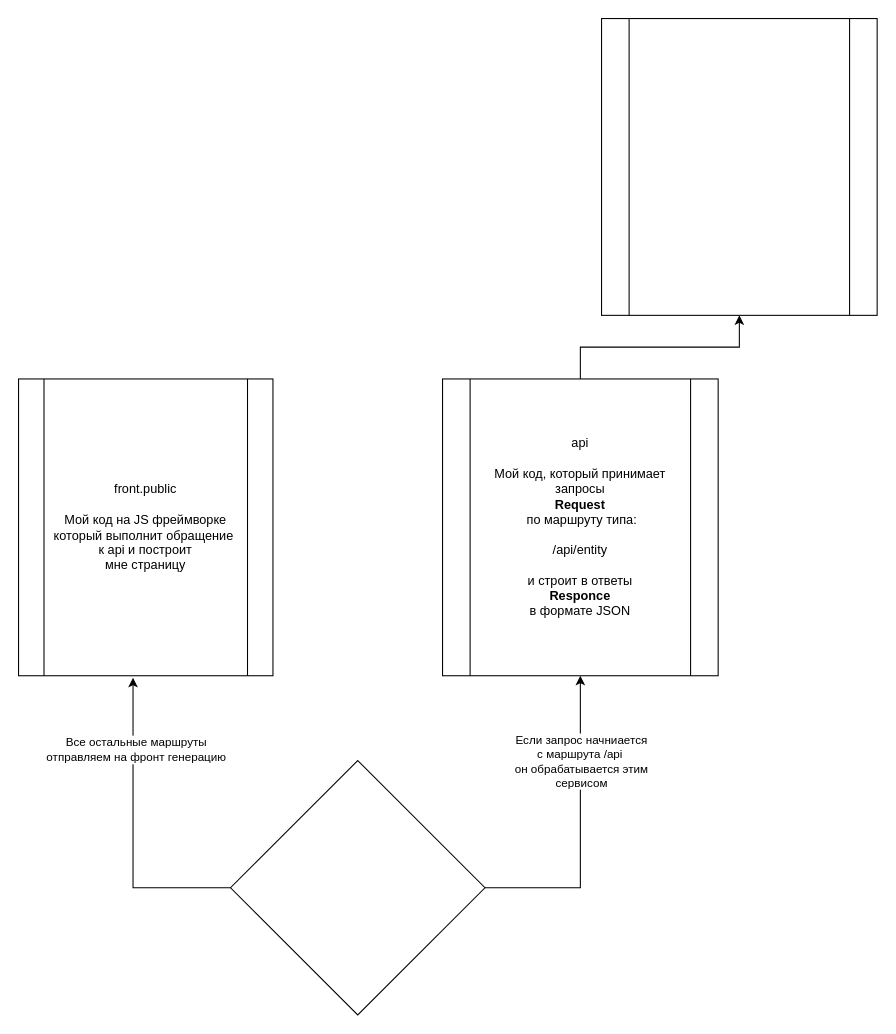
Some shapes in this 896 by 1034 pixel diagram are drawn without their labels. Here are the shapes that lost their labels. From the top down, the box of each, then its label:
(600, 17, 877, 315): db 3306 -> MySQL Server Содержит систему управления базой данных
(229, 759, 485, 1015): Nginx
